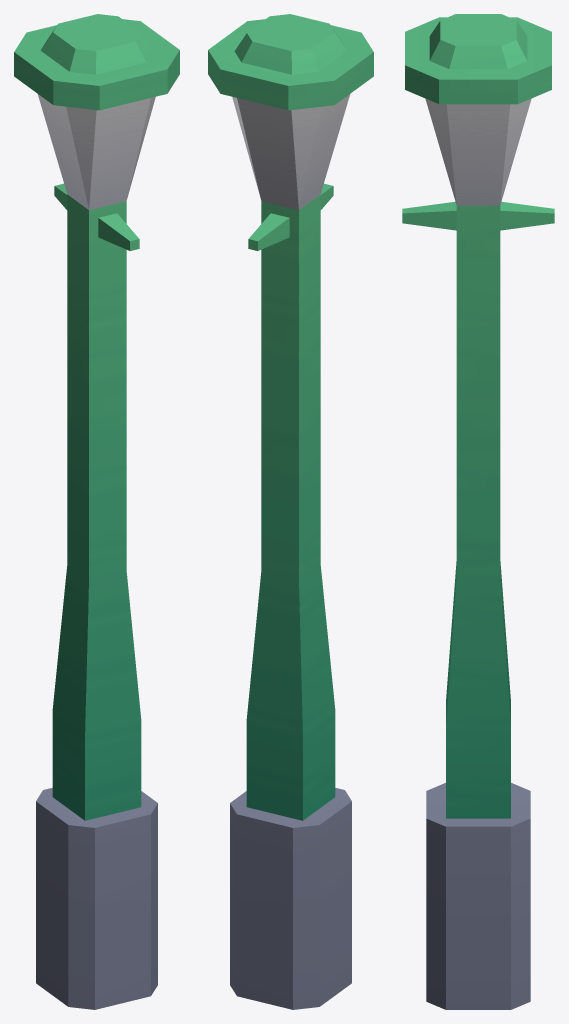
Rendered from lantern.fbx.
The picture shows the model from 3 angles, left to right: view 1: azimuth 30°, elevation 25°; view 2: azimuth 150°, elevation 25°; view 3: azimuth 270°, elevation 25°; orthographic projection.
Visible parts, largest first — view 1: lantern; view 2: lantern; view 3: lantern.
Boxes of the visible parts, bbox=[...] form: lantern: bbox=[14, 14, 179, 1009]; lantern: bbox=[208, 14, 373, 1009]; lantern: bbox=[402, 14, 554, 1009].
Bounding box in the file's own units: 0.2164 × 0.2243 × 1.56.
